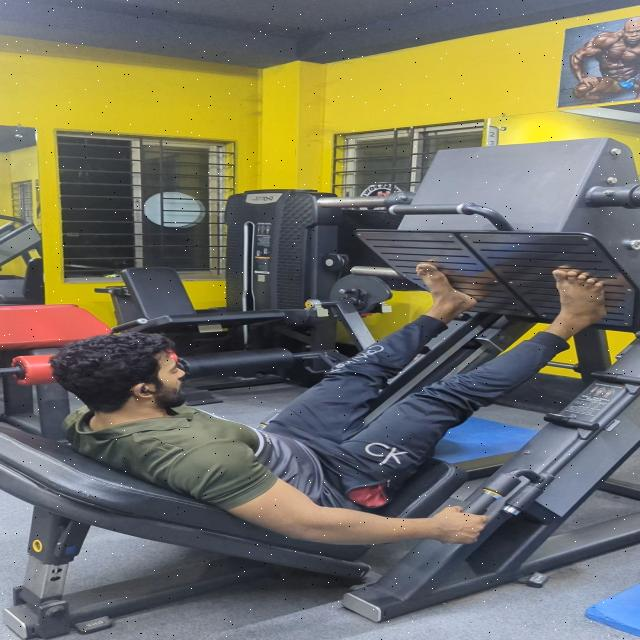Normal_LegPress: (0, 214, 640, 640)
